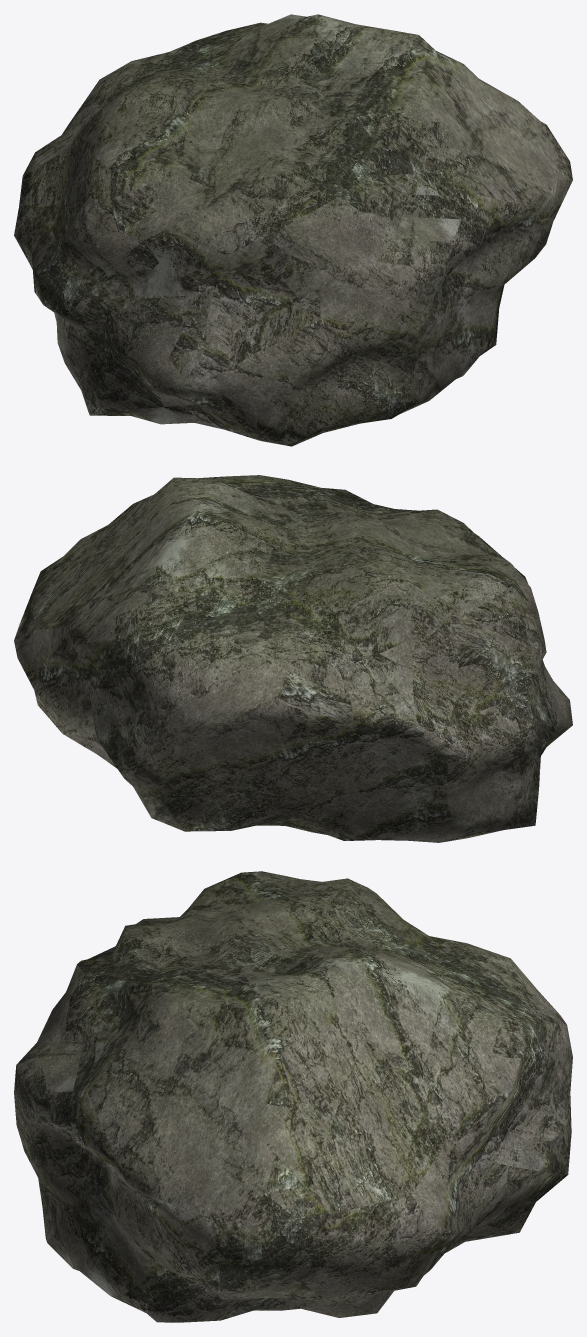
File: rock_boulder.glb
3 renders of one model, top to bottom at view 1: azimuth 30°, elevation 25°; view 2: azimuth 150°, elevation 25°; view 3: azimuth 270°, elevation 25°, orthographic. The views are drawn at different scales.
Visible parts, largest first — view 1: plant; view 2: plant; view 3: plant.
Boxes of the visible parts, box(x1,y1,x2,y2) form: plant: box(14, 14, 572, 446); plant: box(14, 475, 572, 842); plant: box(14, 871, 572, 1322).
Size of the model in its own units: 1.36 by 0.7302 by 1.13.
1 material, 1 textured.
